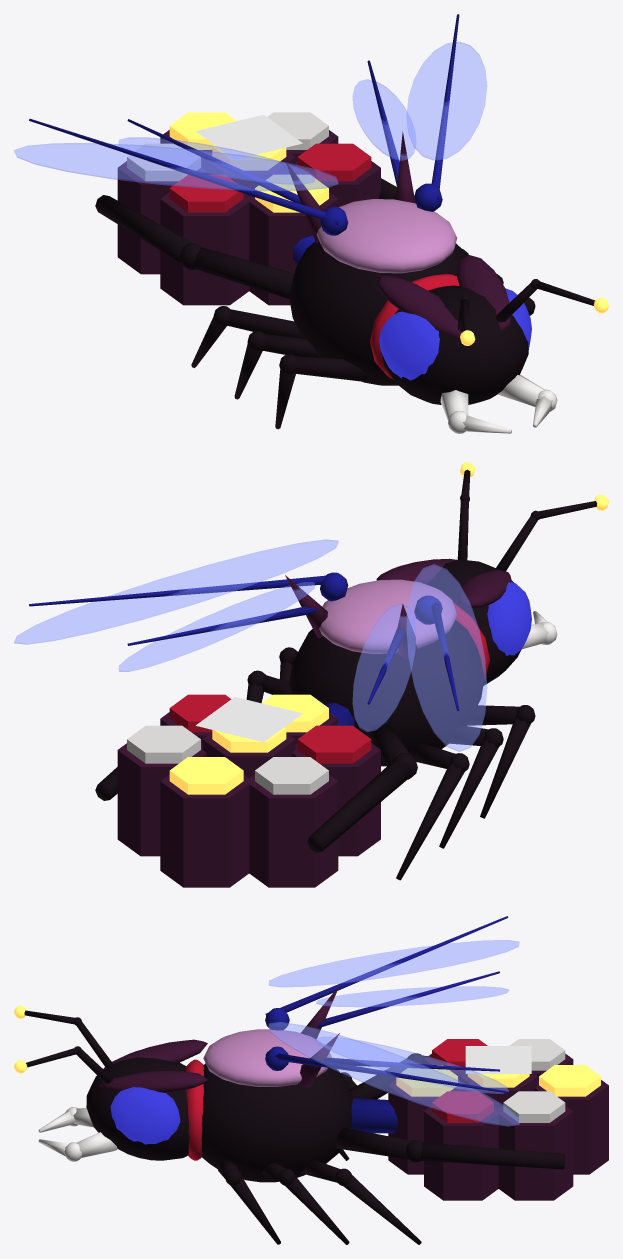
File: Grix_Prijevoznik.fbx
The picture shows the model from 3 angles, top to bottom: view 1: azimuth 30°, elevation 25°; view 2: azimuth 150°, elevation 25°; view 3: azimuth 270°, elevation 25°; orthographic projection. The views are drawn at different scales.
Parts seen in each view (by area): view 1: Body.001, Cargo.001, Flag; view 2: Body.001, Cargo.001, Flag; view 3: Body.001, Cargo.001, Flag.
Boxes of the visible parts, <box> form: Body.001: <box>14,14,608,433</box>; Cargo.001: <box>95,112,415,305</box>; Flag: <box>195,114,302,159</box>; Body.001: <box>14,462,608,880</box>; Cargo.001: <box>95,694,417,887</box>; Flag: <box>195,697,302,742</box>; Body.001: <box>14,916,519,1244</box>; Cargo.001: <box>335,1039,608,1200</box>; Flag: <box>465,1046,531,1073</box>.
Bounding box in the file's own units: 2.66 × 1.33 × 3.6.
